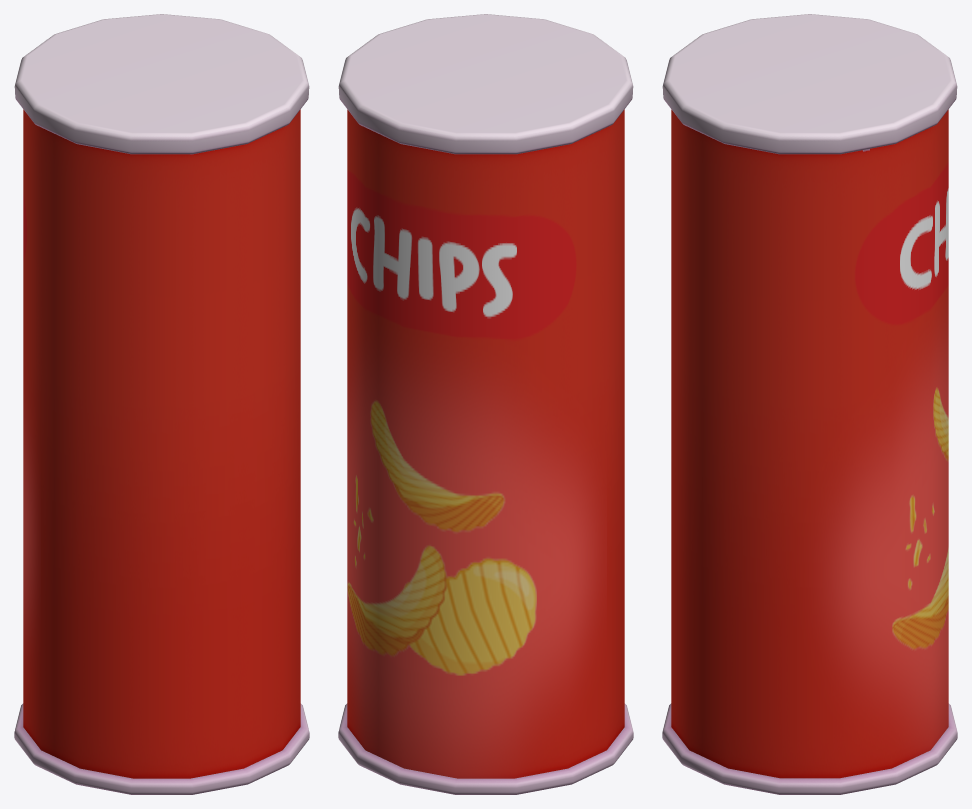
The model's file is hop khoai tay.fbx.
The picture shows the model from 3 angles, left to right: view 1: azimuth 30°, elevation 25°; view 2: azimuth 150°, elevation 25°; view 3: azimuth 270°, elevation 25°; orthographic projection.
Visible parts, largest first — view 1: hop_khoai_tay3; view 2: hop_khoai_tay3; view 3: hop_khoai_tay3.
Boxes of the visible parts, box(x1,y1,x2,y2) form: hop_khoai_tay3: box(14, 14, 309, 794); hop_khoai_tay3: box(338, 14, 633, 794); hop_khoai_tay3: box(662, 14, 957, 794).
Size of the model in its own units: 62.98 by 157 by 63.33.
1 material, 1 textured.
